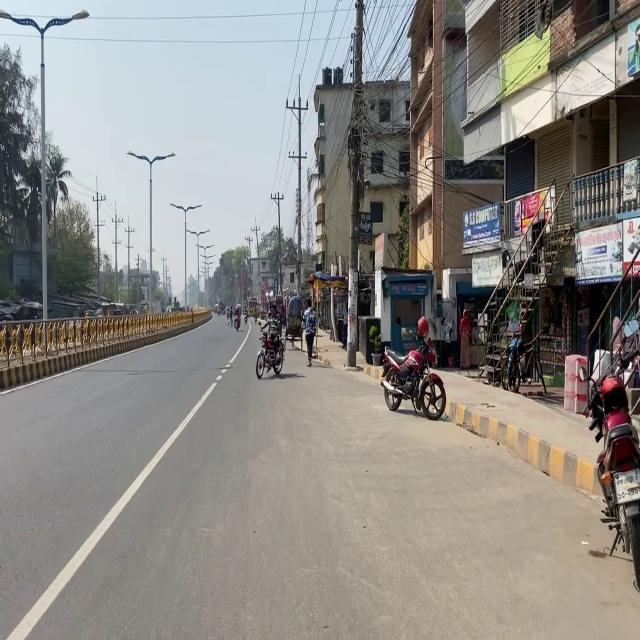Construction-barrier: (446, 399, 600, 496)
Fallen-tree: (577, 314, 639, 593), (380, 335, 446, 419), (498, 328, 545, 393), (255, 317, 285, 379), (233, 313, 241, 330)
Garbage-bin: (301, 299, 318, 366), (458, 308, 472, 369)
Light-pole: (344, 0, 365, 368)
Muddy road: (367, 324, 383, 365)
Pole: (10, 296, 200, 380)
Pothole: (368, 322, 635, 505)
